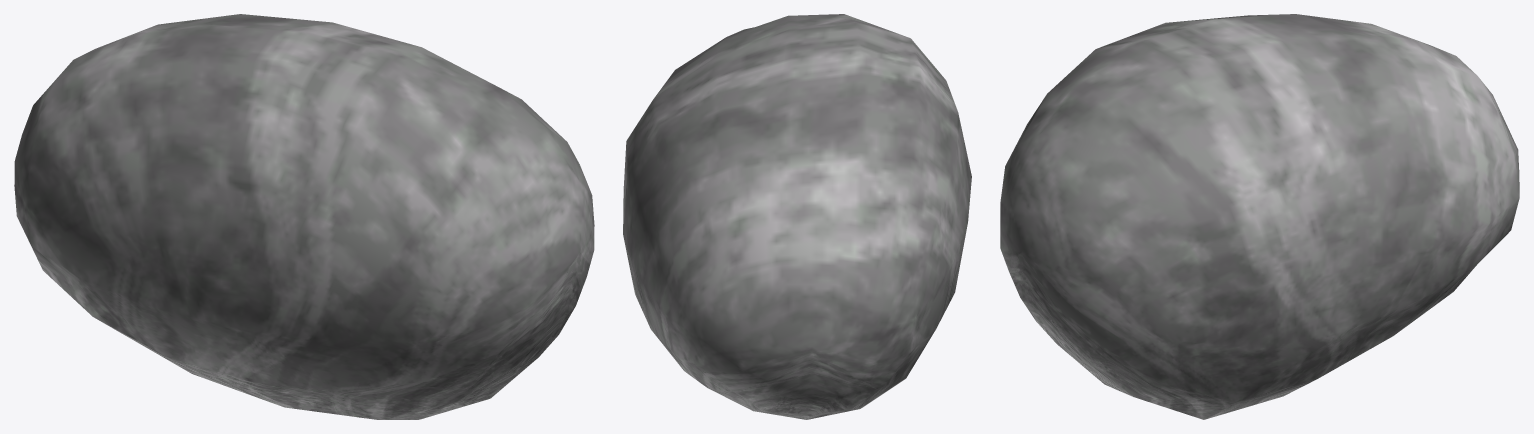
The model's file is Potato_Item (8).fbx.
3 renders of one model, left to right at view 1: azimuth 30°, elevation 25°; view 2: azimuth 150°, elevation 25°; view 3: azimuth 270°, elevation 25°, orthographic. The views are drawn at different scales.
Parts seen in each view (by area): view 1: Potato; view 2: Potato; view 3: Potato.
Boxes of the visible parts, <box> form: Potato: <box>14,14,594,419</box>; Potato: <box>623,14,971,419</box>; Potato: <box>1000,14,1519,419</box>.
Size of the model in its own units: 0.4811 by 0.4146 by 0.5833.
